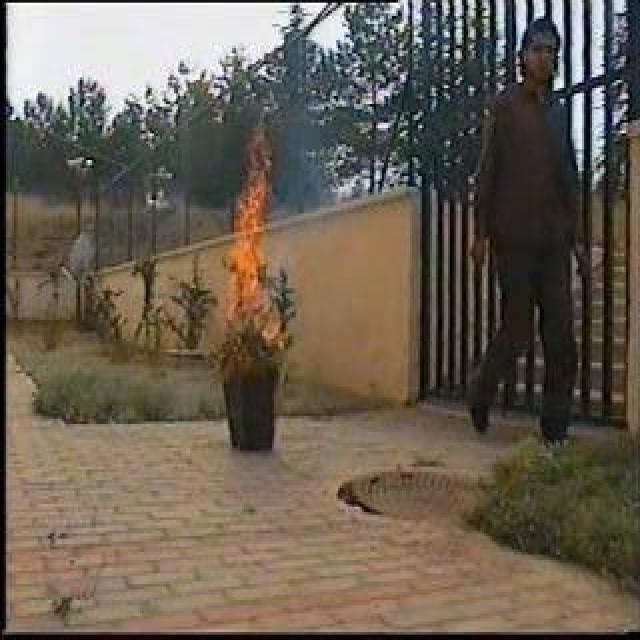Fire: (229, 136, 271, 315)
